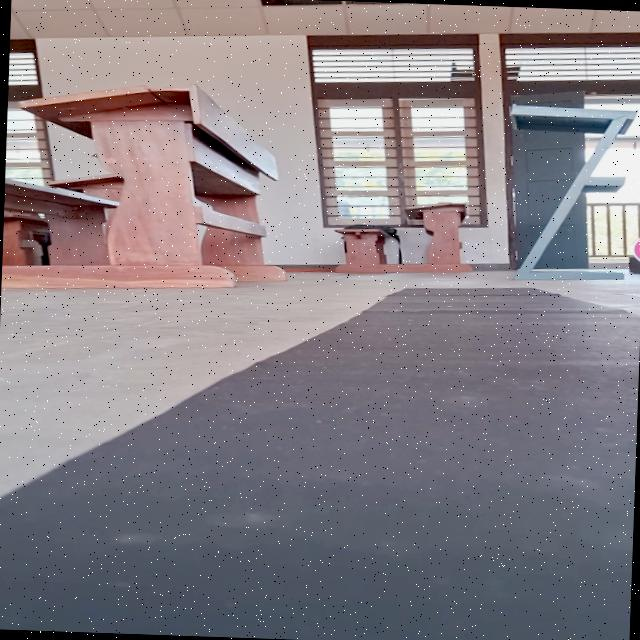Speed20: (628, 228, 640, 267)
